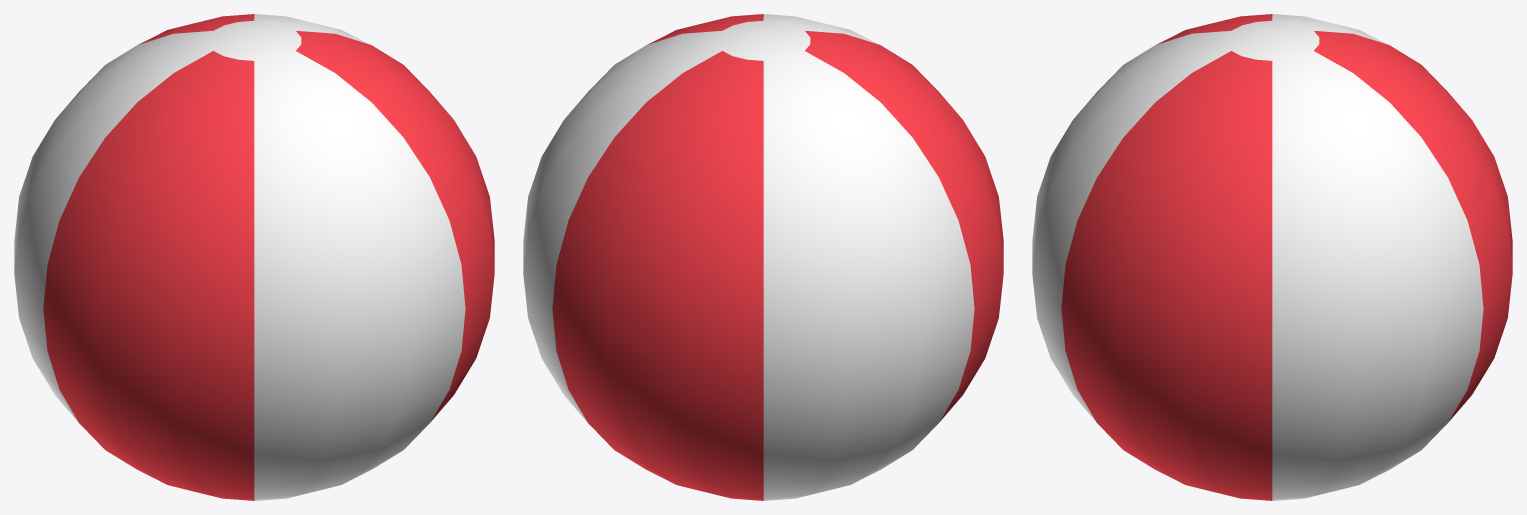
Rendered from ball_teamRed.glb.
3 renders of one model, left to right at view 1: azimuth 30°, elevation 25°; view 2: azimuth 150°, elevation 25°; view 3: azimuth 270°, elevation 25°, orthographic.
Parts seen in each view (by area): view 1: ball_teamRed; view 2: ball_teamRed; view 3: ball_teamRed.
Boxes of the visible parts, x1,y1,x2,y2 form: ball_teamRed: [14, 14, 494, 500]; ball_teamRed: [523, 14, 1003, 500]; ball_teamRed: [1032, 14, 1512, 500].
Bounding box in the file's own units: 0.6 × 0.6 × 0.5909.
